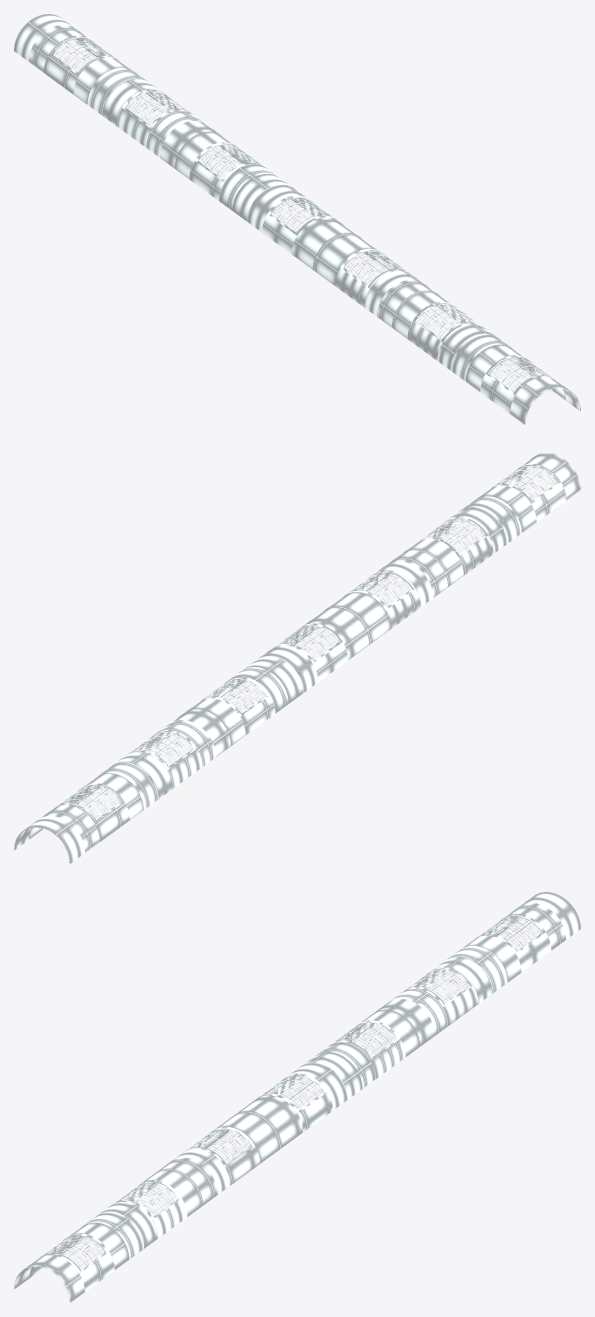
File: hallway_ceiling 1.fbx
The picture shows the model from 3 angles, top to bottom: view 1: azimuth 30°, elevation 25°; view 2: azimuth 150°, elevation 25°; view 3: azimuth 330°, elevation 25°; orthographic projection.
Visible parts, largest first — view 1: SM_Ceiling01; view 2: SM_Ceiling01; view 3: SM_Ceiling01.
Boxes of the visible parts, x1=… form: SM_Ceiling01: x1=14, y1=14, x2=580, y2=424; SM_Ceiling01: x1=14, y1=453, x2=580, y2=863; SM_Ceiling01: x1=14, y1=892, x2=580, y2=1302.
Bounding box in the file's own units: 23.41 × 11.7 × 368.
